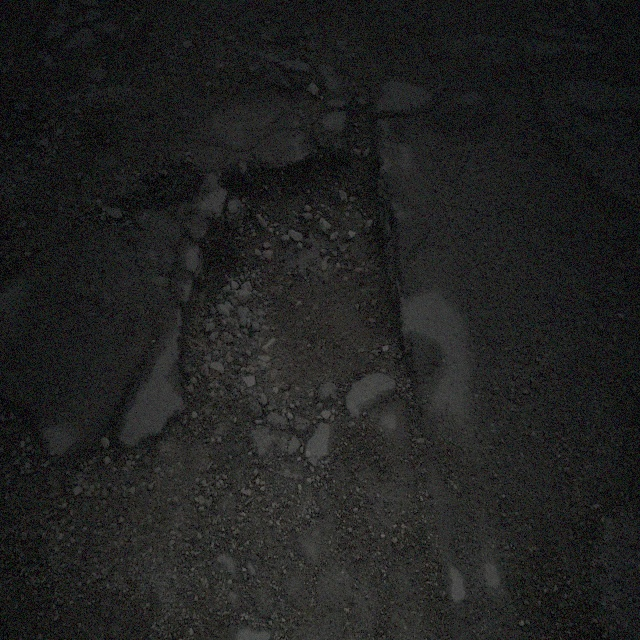pothole: (176, 131, 417, 429)
